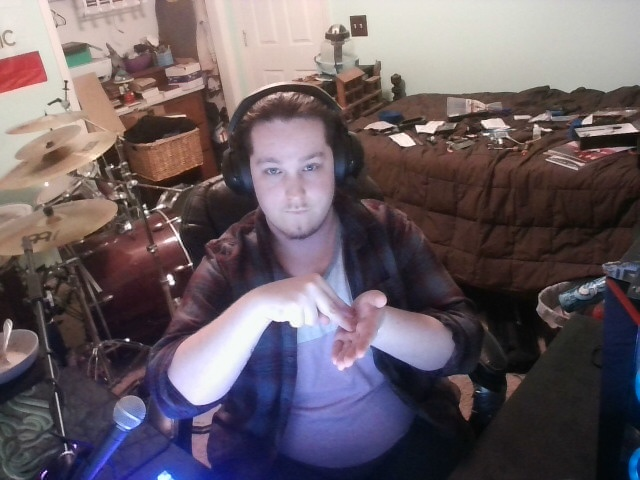fork: (259, 262, 400, 384)
